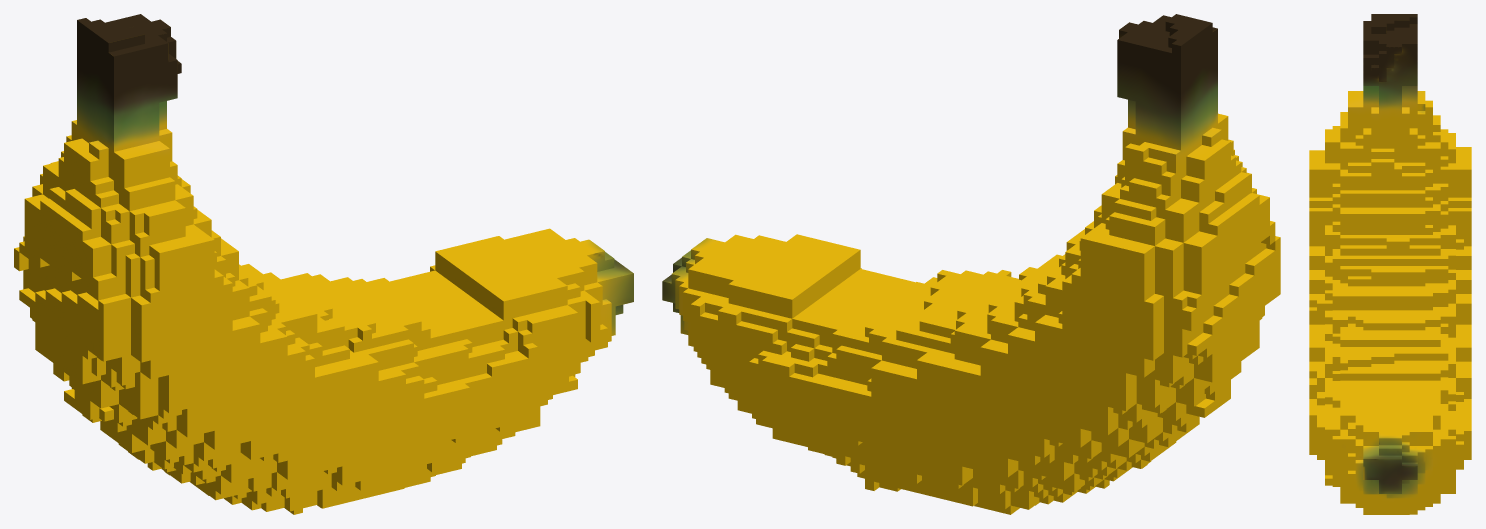
Rendered from banana_vox.glb.
3 views of the same model, side by side, from view 1: azimuth 30°, elevation 25°; view 2: azimuth 150°, elevation 25°; view 3: azimuth 270°, elevation 25° (orthographic). The views are drawn at different scales.
Parts seen in each view (by area): view 1: tmp06wq8yyq.ply; view 2: tmp06wq8yyq.ply; view 3: tmp06wq8yyq.ply.
Boxes of the visible parts, x1,y1,x2,y2 form: tmp06wq8yyq.ply: (14,14,633,514); tmp06wq8yyq.ply: (662,14,1280,514); tmp06wq8yyq.ply: (1309,14,1471,514).
Bounding box in the file's own units: 2 × 1.74 × 0.6882.
1 material, 1 textured.
